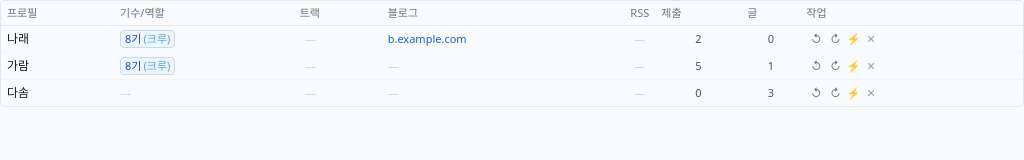
Test case: MemberTable › should save a nickname on Enter and cancel on Escape
Click the button "가람": [18, 66] box [7,58,29,74]
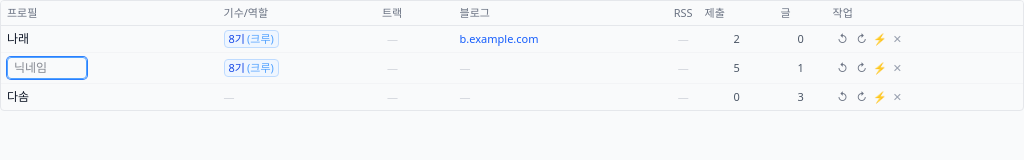
In the field with placeholder "닉네임": [47, 68] box [7,57,87,79], type "수동"
Then press Escape
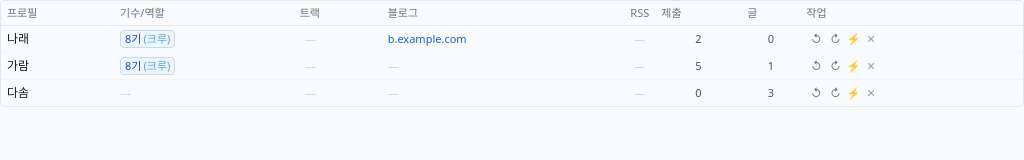
Check: the field with placeholder "닉네임" is gone
Click the button "가람": [18, 66] box [7,58,29,74]
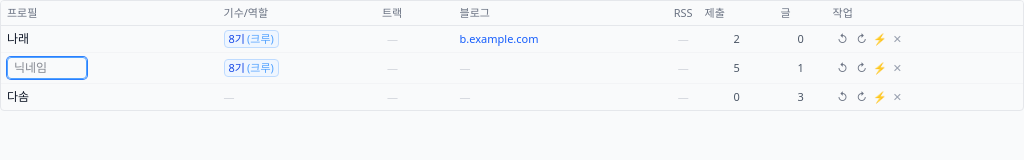
In the field with placeholder "닉네임": [47, 68] box [7,57,87,79], type "수동"
Then press Enter
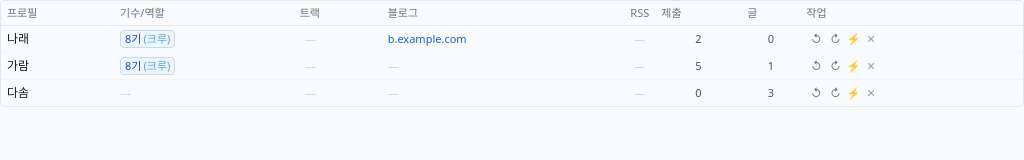
Check: the field with placeholder "닉네임" is gone
